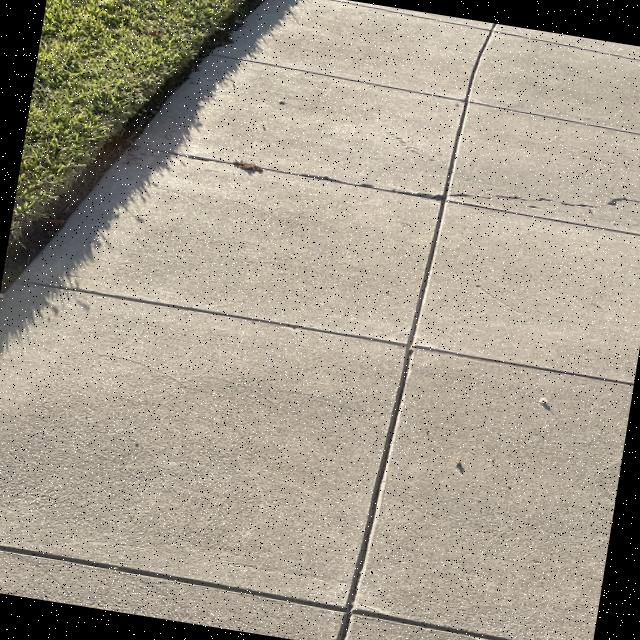walkway: (0, 358, 623, 640), (98, 162, 640, 445), (107, 17, 640, 282), (171, 0, 640, 146)
